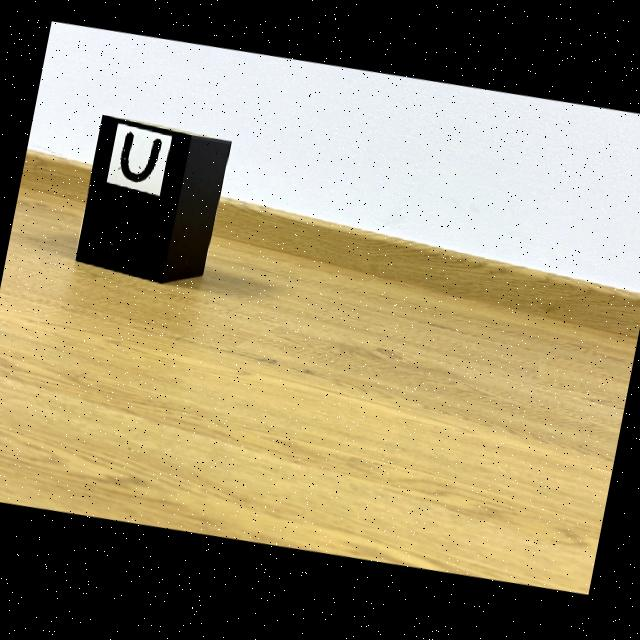U: (120, 133, 161, 184)
